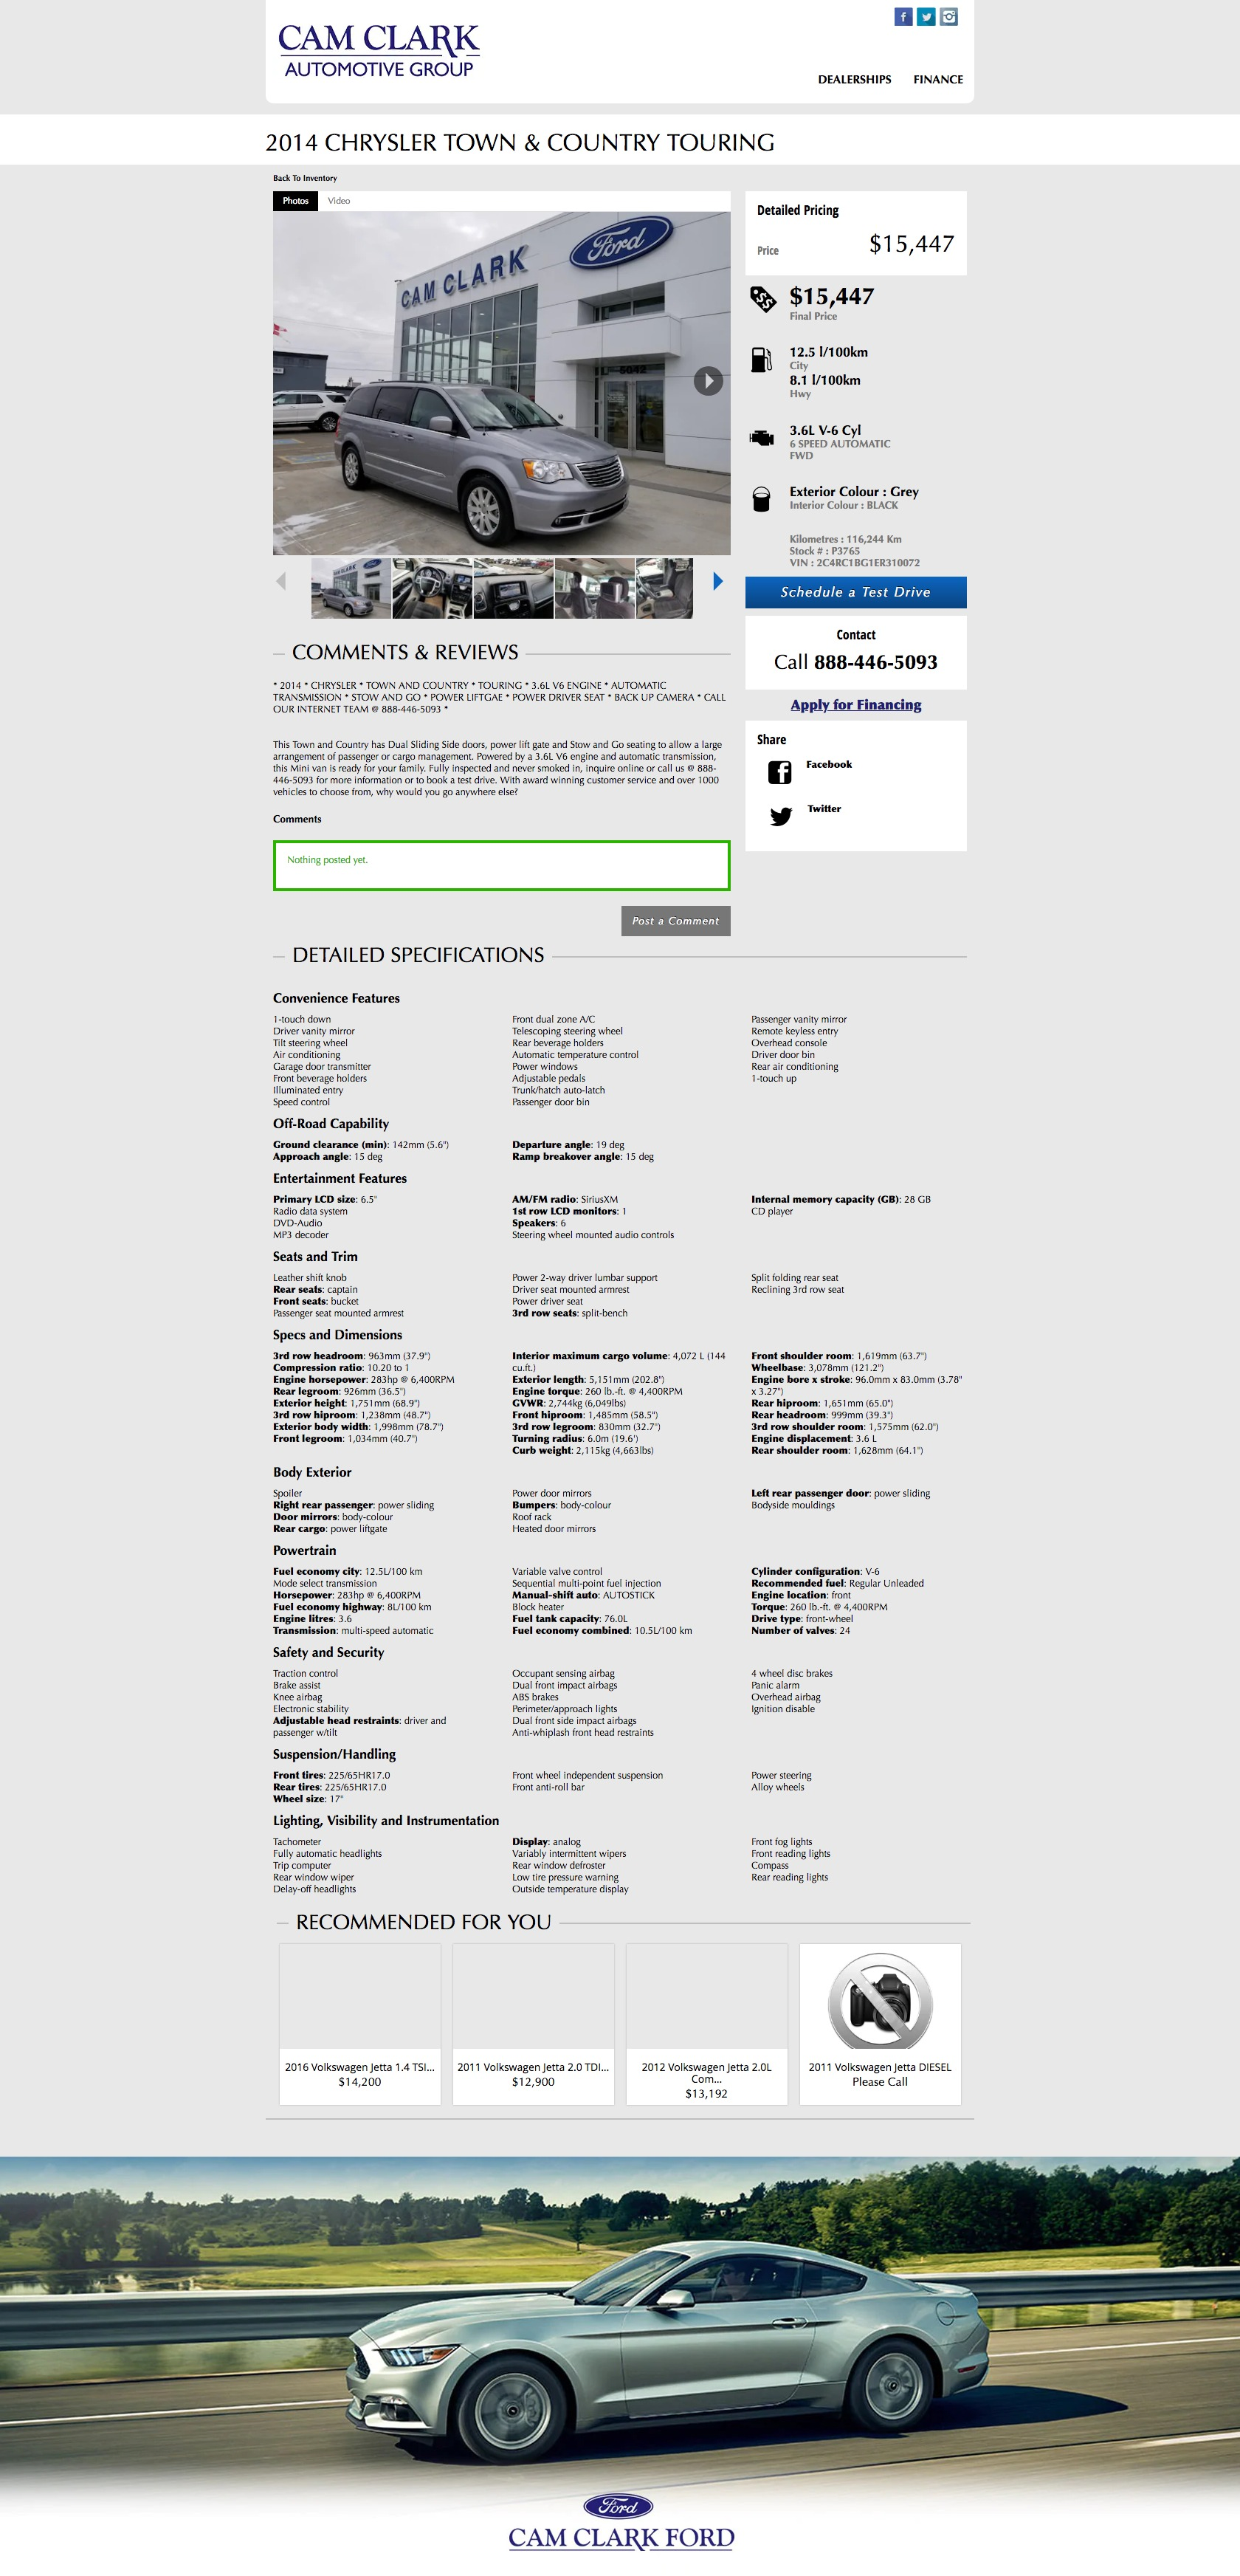car: (713, 570, 726, 595)
